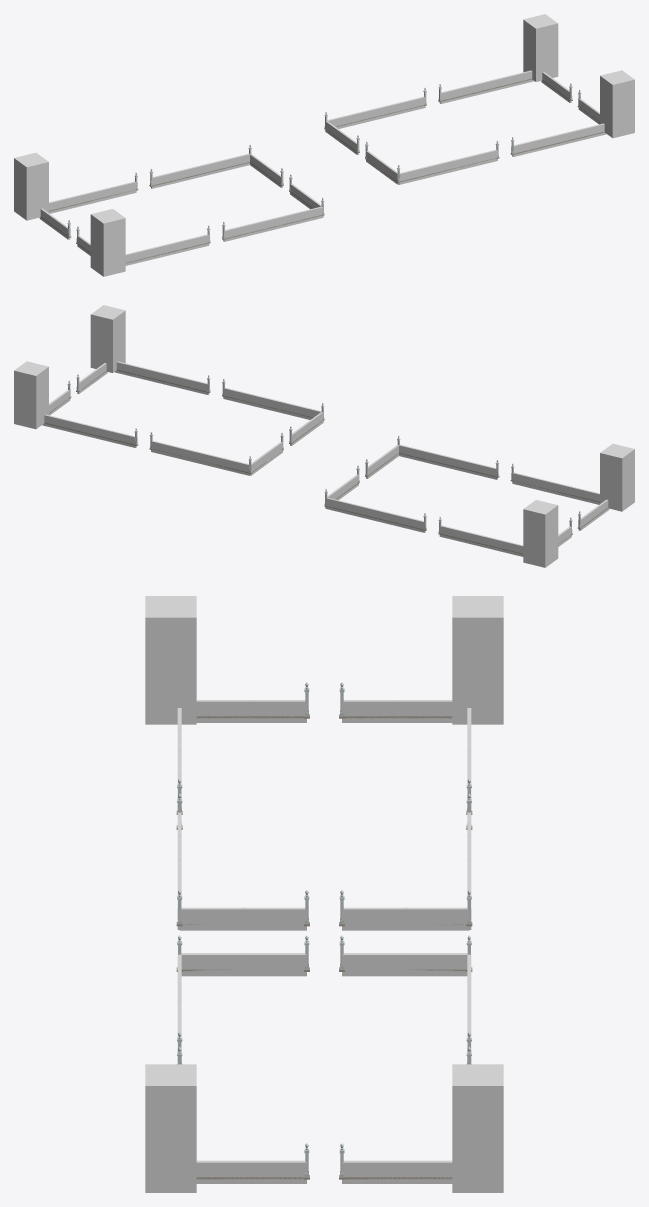
Rendered from garten_gelaender.glb.
The picture shows the model from 3 angles, top to bottom: view 1: azimuth 30°, elevation 25°; view 2: azimuth 150°, elevation 25°; view 3: azimuth 270°, elevation 25°; orthographic projection. The views are drawn at different scales.
Visible parts, largest first — view 1: garten_gelaender, COL_HULL_17, COL_HULL_19, COL_HULL_18, COL_HULL_16, COL_HULL_4, COL_HULL_12, COL_HULL_0, COL_HULL_8, COL_HULL_9, COL_HULL_13, COL_HULL_1 (+4 smaller); view 2: garten_gelaender, COL_HULL_16, COL_HULL_18, COL_HULL_19, COL_HULL_17, COL_HULL_0, COL_HULL_8, COL_HULL_4, COL_HULL_12, COL_HULL_13, COL_HULL_9, COL_HULL_5 (+4 smaller); view 3: COL_HULL_18, COL_HULL_19, COL_HULL_16, COL_HULL_17, garten_gelaender, COL_HULL_2, COL_HULL_6, COL_HULL_10, COL_HULL_14, COL_HULL_15, COL_HULL_11, COL_HULL_7 (+1 smaller).
Part boxes in pixels (x1,y1,x2,y2): garten_gelaender: (40,75,604,263); COL_HULL_17: (90,209,125,276); COL_HULL_19: (600,70,634,138); COL_HULL_18: (523,14,558,81); COL_HULL_16: (14,152,48,220); COL_HULL_4: (223,206,323,241); COL_HULL_12: (398,149,497,184); COL_HULL_0: (151,153,249,188); COL_HULL_8: (327,96,425,128); COL_HULL_9: (439,70,533,103); COL_HULL_13: (512,123,606,156); COL_HULL_1: (49,181,136,213); garten_gelaender: (44,366,608,554); COL_HULL_16: (523,500,558,567); COL_HULL_18: (14,361,48,429); COL_HULL_19: (90,305,125,372); COL_HULL_17: (600,443,634,511); COL_HULL_0: (325,497,425,532); COL_HULL_8: (151,440,250,475); COL_HULL_4: (399,444,497,479); COL_HULL_12: (223,387,321,419); COL_HULL_13: (115,361,209,394); COL_HULL_9: (42,414,136,447); COL_HULL_5: (512,472,599,504); COL_HULL_18: (452,1064,503,1192); COL_HULL_19: (145,1064,196,1192); COL_HULL_16: (452,596,503,724); COL_HULL_17: (145,596,196,724); garten_gelaender: (176,682,472,1179); COL_HULL_2: (342,907,469,930); COL_HULL_6: (179,907,306,930); COL_HULL_10: (342,953,468,976); COL_HULL_14: (180,953,306,976); COL_HULL_15: (196,1160,306,1183); COL_HULL_11: (342,1160,452,1183); COL_HULL_7: (196,700,306,722).
Size of the model in its own units: 69.92 by 8.81 by 20.42.
